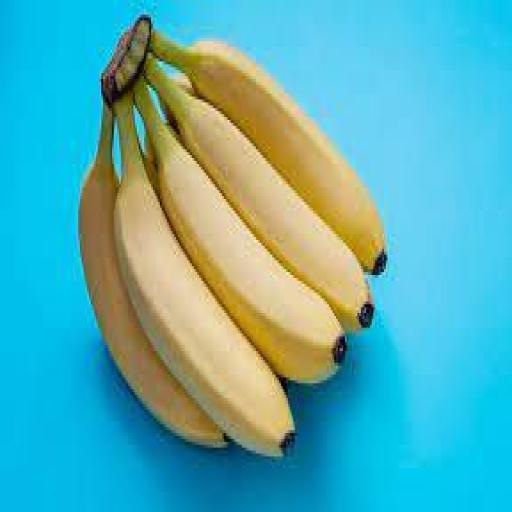banana: (114, 94, 295, 456), (134, 79, 346, 383), (144, 56, 373, 330), (150, 30, 387, 275)
